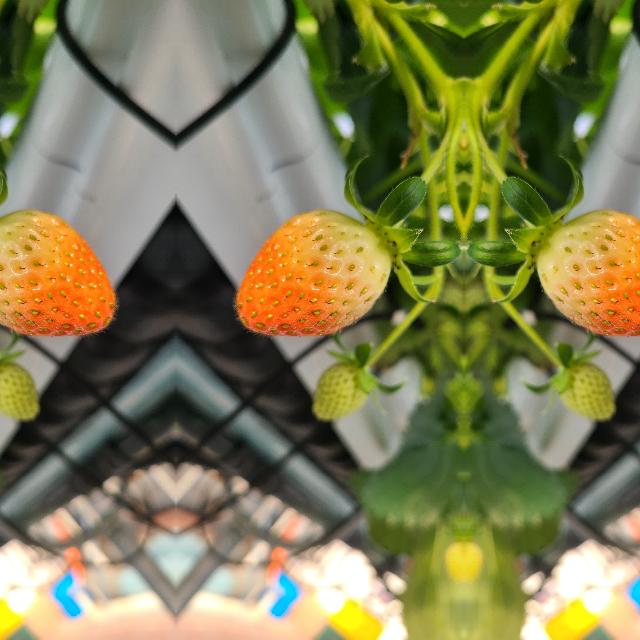Health_25: (313, 356, 367, 422), (559, 356, 613, 422), (0, 356, 37, 422)
Health_75: (235, 209, 388, 335), (0, 209, 114, 335), (537, 209, 640, 335)
